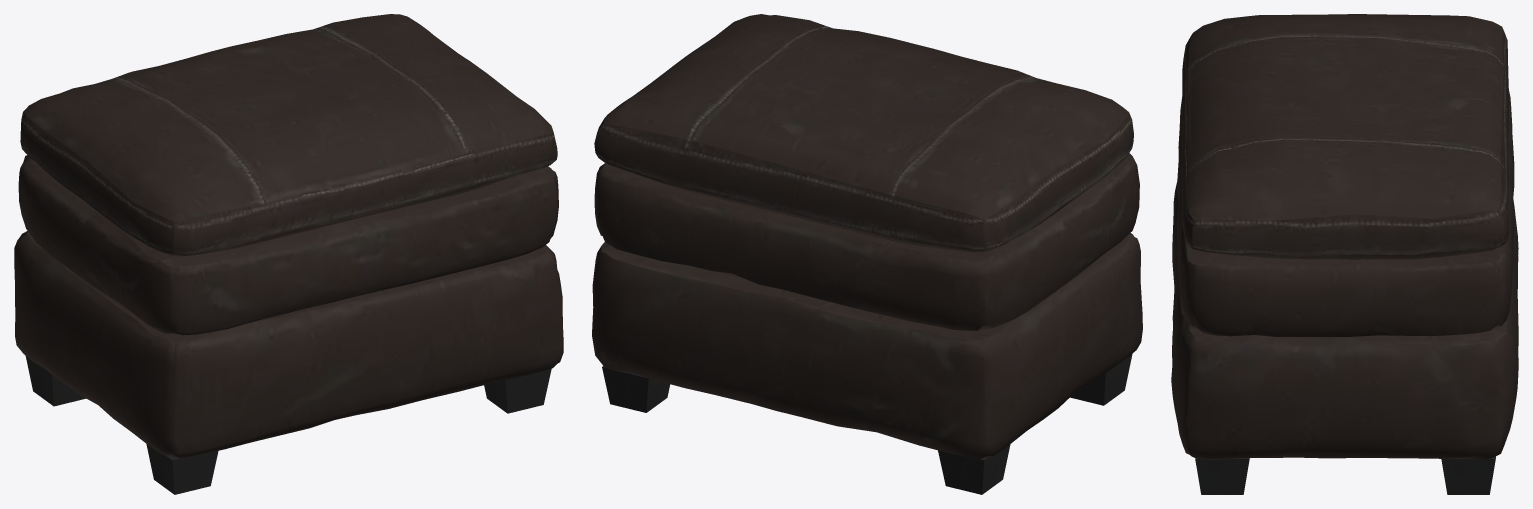
The model's file is Ottoman_01.glb.
3 views of the same model, side by side, from view 1: azimuth 30°, elevation 25°; view 2: azimuth 150°, elevation 25°; view 3: azimuth 270°, elevation 25° (orthographic).
Visible parts, largest first — view 1: Ottoman_01; view 2: Ottoman_01; view 3: Ottoman_01.
Part boxes in pixels (x1=…): Ottoman_01: x1=14, y1=14, x2=563, y2=494; Ottoman_01: x1=592, y1=14, x2=1142, y2=494; Ottoman_01: x1=1171, y1=14, x2=1518, y2=494.
Size of the model in its own units: 0.8846 by 0.6243 by 0.6211.
1 material, 1 textured.
